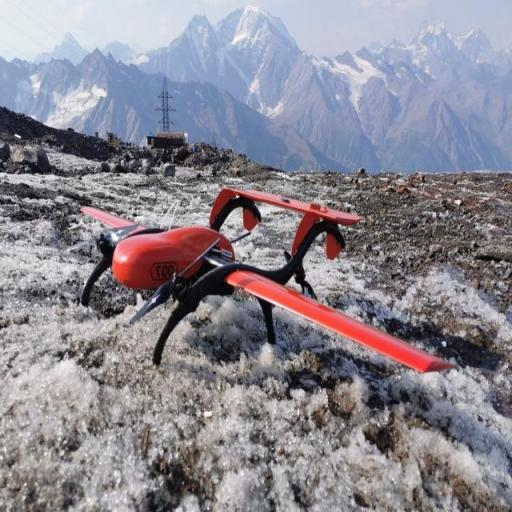uav: (64, 187, 456, 391)
